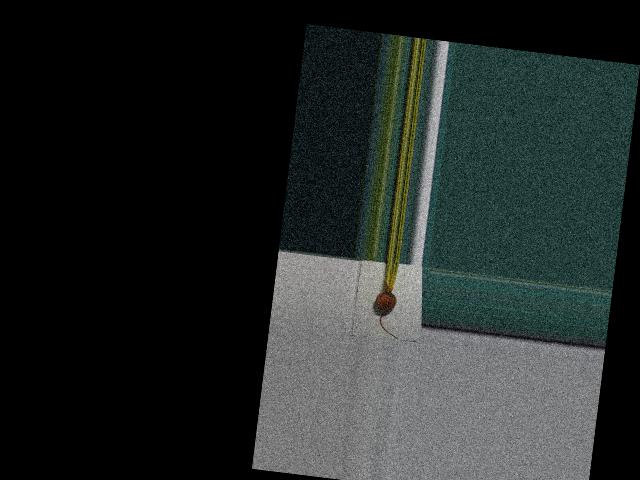beet: (371, 261, 406, 338)
